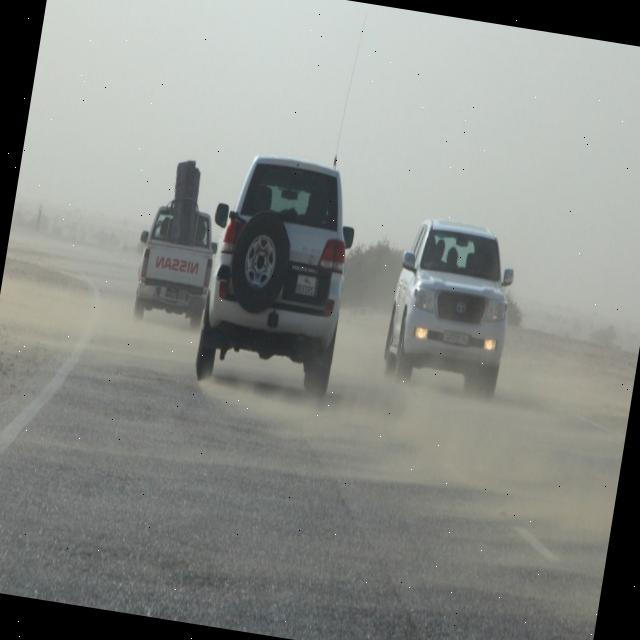bus: (128, 157, 229, 331)
car: (191, 147, 366, 402), (375, 213, 522, 403)
